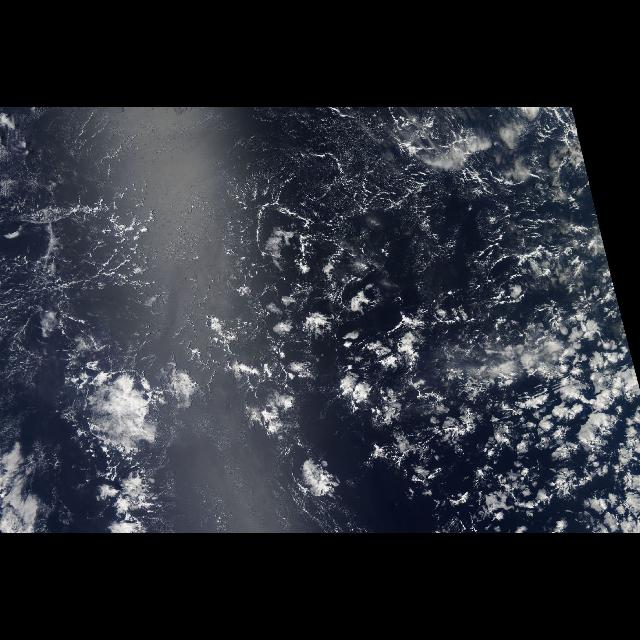Flower: (195, 204, 639, 534)
Gravel: (2, 113, 438, 371)
Sugar: (16, 113, 444, 244)
